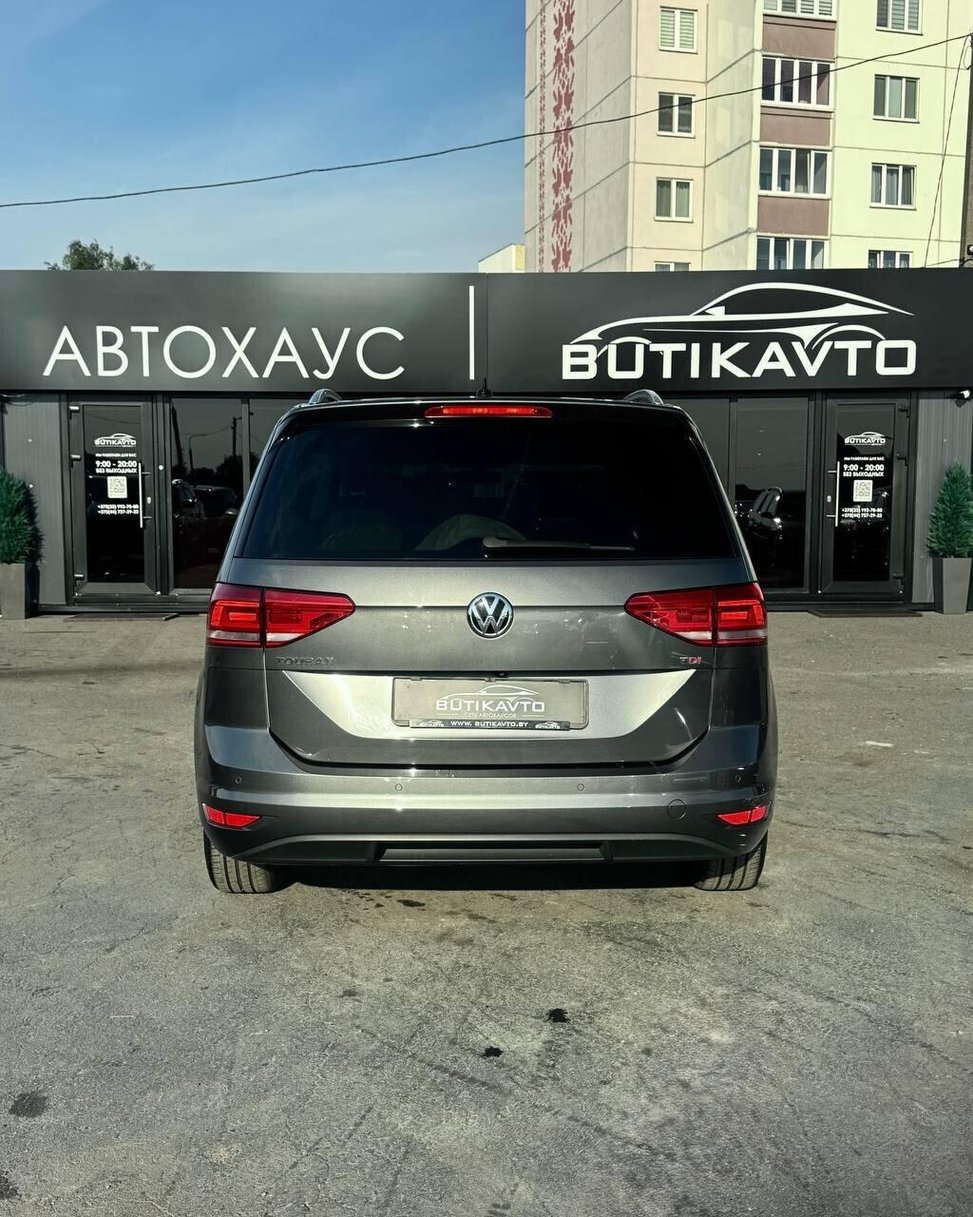Touran_2015: (185, 380, 778, 914)
